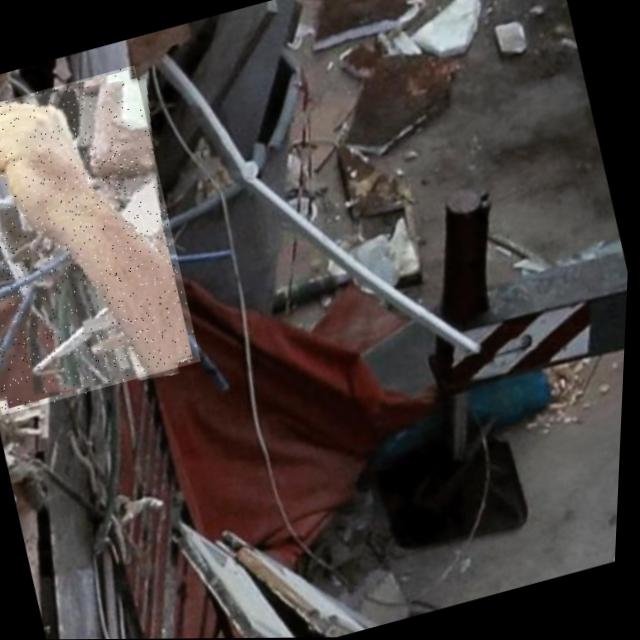Person in Rubble: (0, 65, 215, 416)
